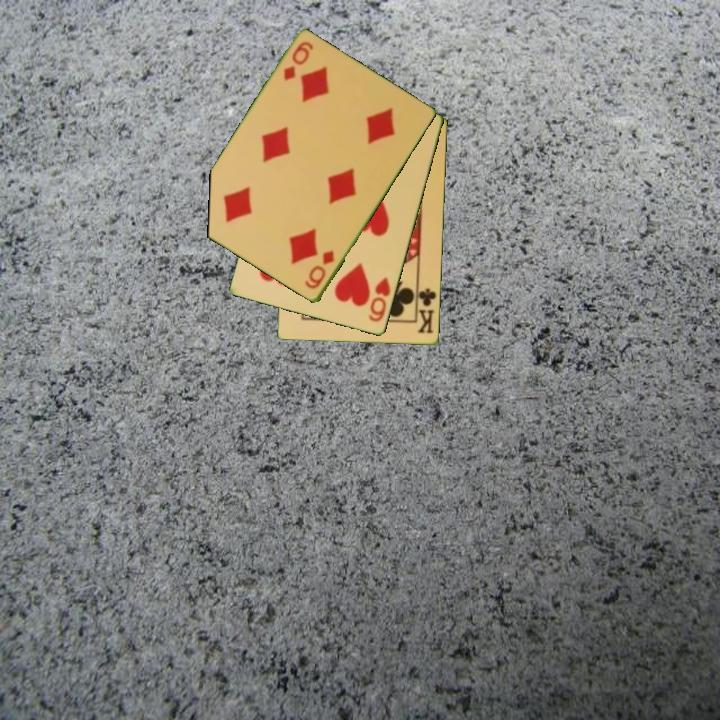6d: (280, 38, 316, 84), (301, 247, 337, 292)
6h: (366, 274, 394, 325)
Kc: (413, 282, 439, 336)
